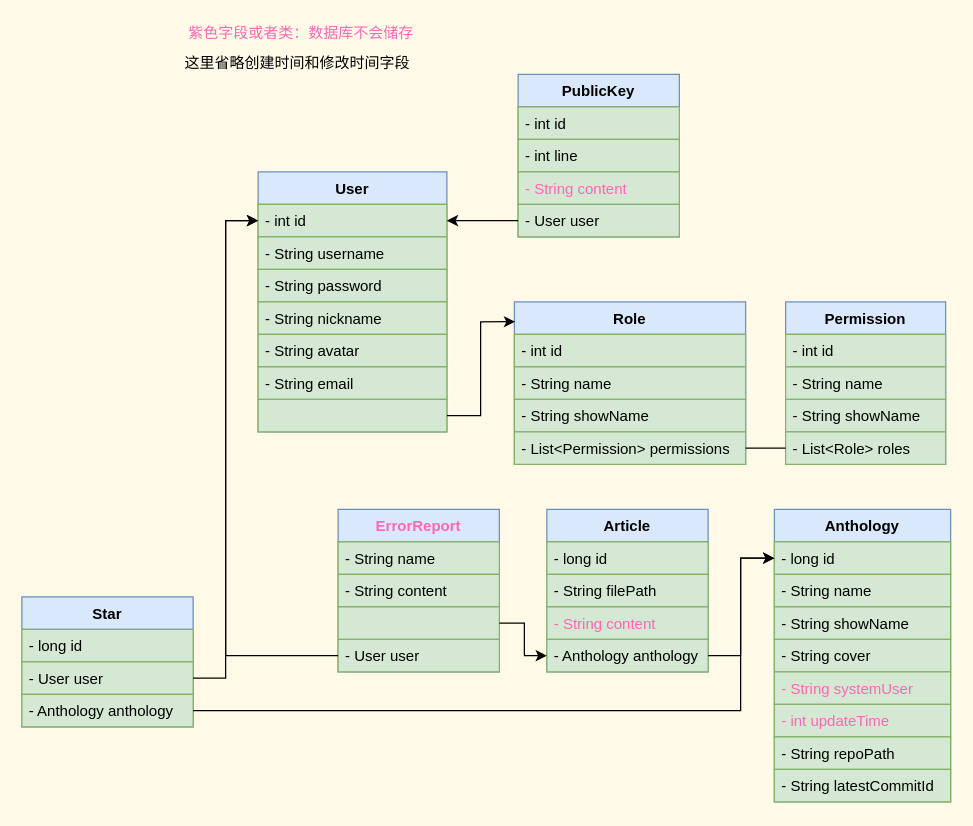
Some shapes in this 973 by 826 pixel diagram are drawn without their labels. The centre of each missing label's shape, as x and y in pixels:
"- Article article" goes at (418,622).
"- Role role" goes at (352,415).
